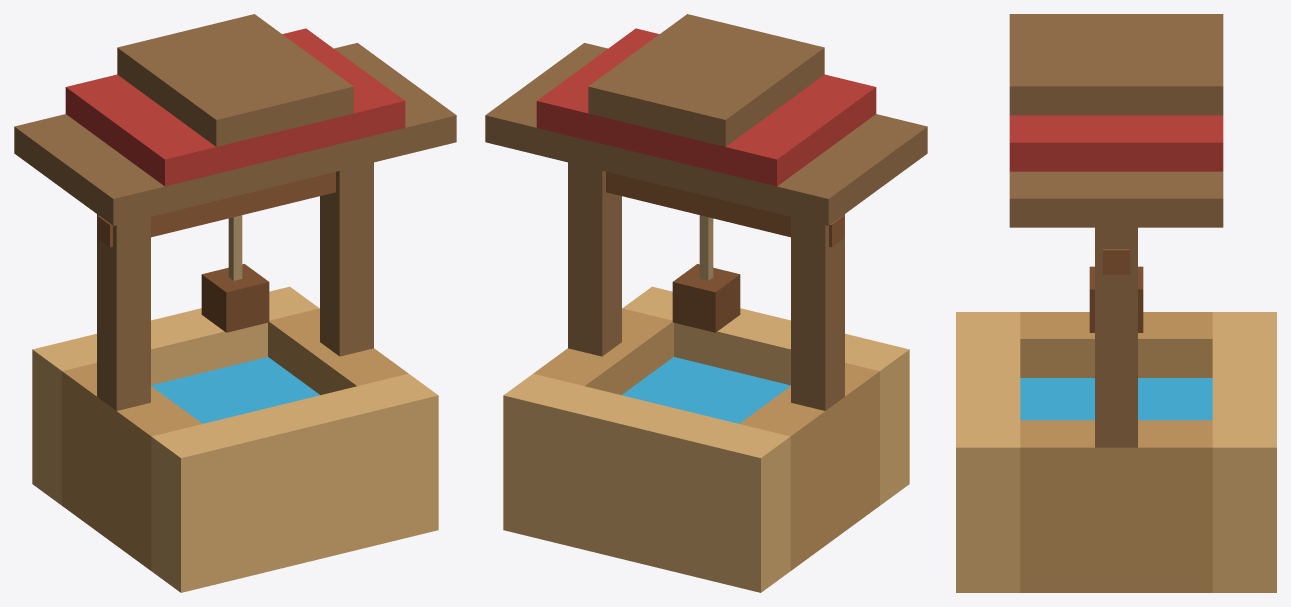
Rendered from DesertWell.glb.
3 renders of one model, left to right at view 1: azimuth 30°, elevation 25°; view 2: azimuth 150°, elevation 25°; view 3: azimuth 270°, elevation 25°, orthographic. The views are drawn at different scales.
Parts seen in each view (by area): view 1: DesertWell; view 2: DesertWell; view 3: DesertWell.
Part boxes in pixels (x1,y1,x2,y2): DesertWell: (14,14,456,592); DesertWell: (485,14,927,592); DesertWell: (956,14,1276,592).
Bounding box in the file's own units: 8 × 9.8 × 6.
Materials: 2 (2 with a texture image).
